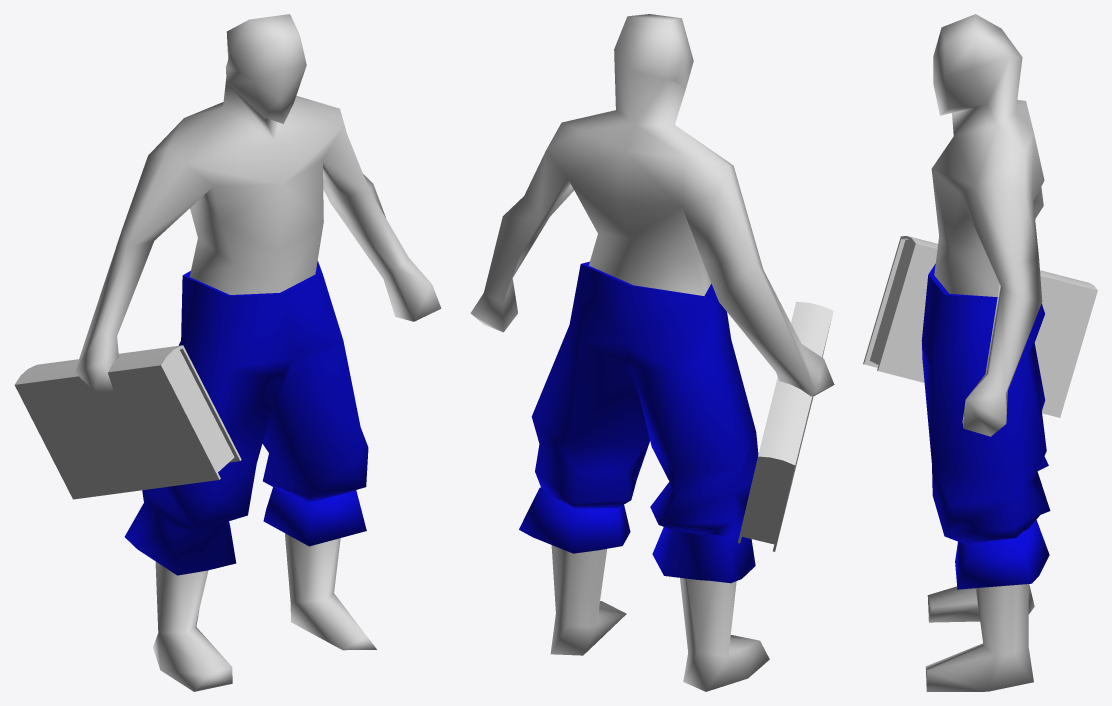
Rendered from MageAllié.fbx.
The picture shows the model from 3 angles, left to right: view 1: azimuth 30°, elevation 25°; view 2: azimuth 150°, elevation 25°; view 3: azimuth 270°, elevation 25°; orthographic projection.
Visible parts, largest first — view 1: Connect_2.001; view 2: Connect_2.001; view 3: Connect_2.001.
Boxes of the visible parts, x1,y1,x2,y2 form: Connect_2.001: [14, 14, 441, 691]; Connect_2.001: [470, 14, 834, 691]; Connect_2.001: [863, 14, 1097, 691].
Bounding box in the file's own units: 113 × 188 × 63.8.
